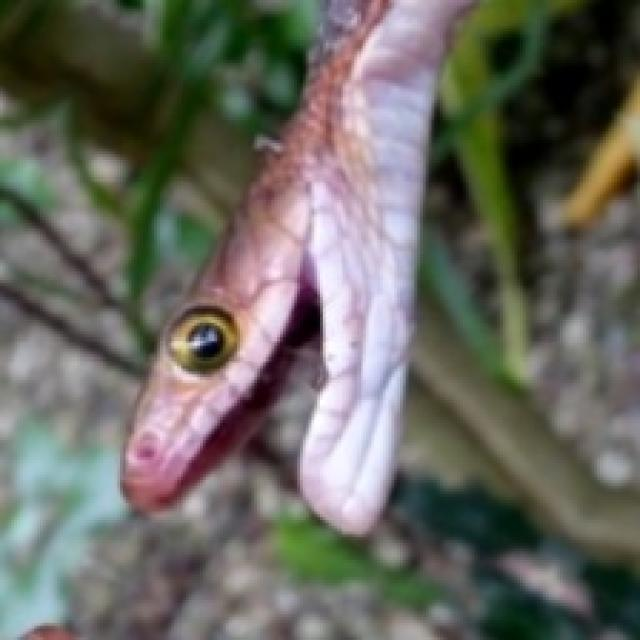reddish rat snake: (120, 0, 469, 531), (123, 0, 471, 531)
